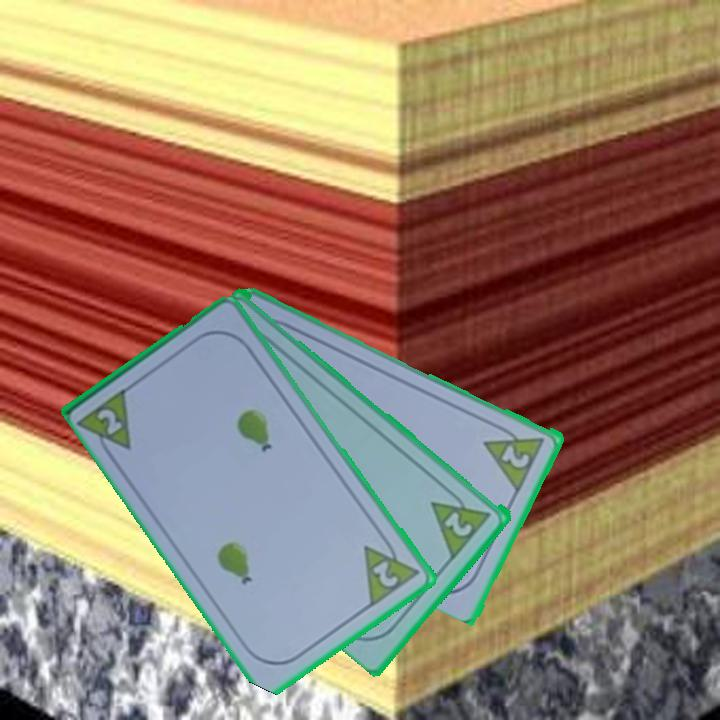2p: (481, 419, 549, 493), (369, 557, 402, 591), (441, 508, 476, 540), (94, 405, 126, 438)
